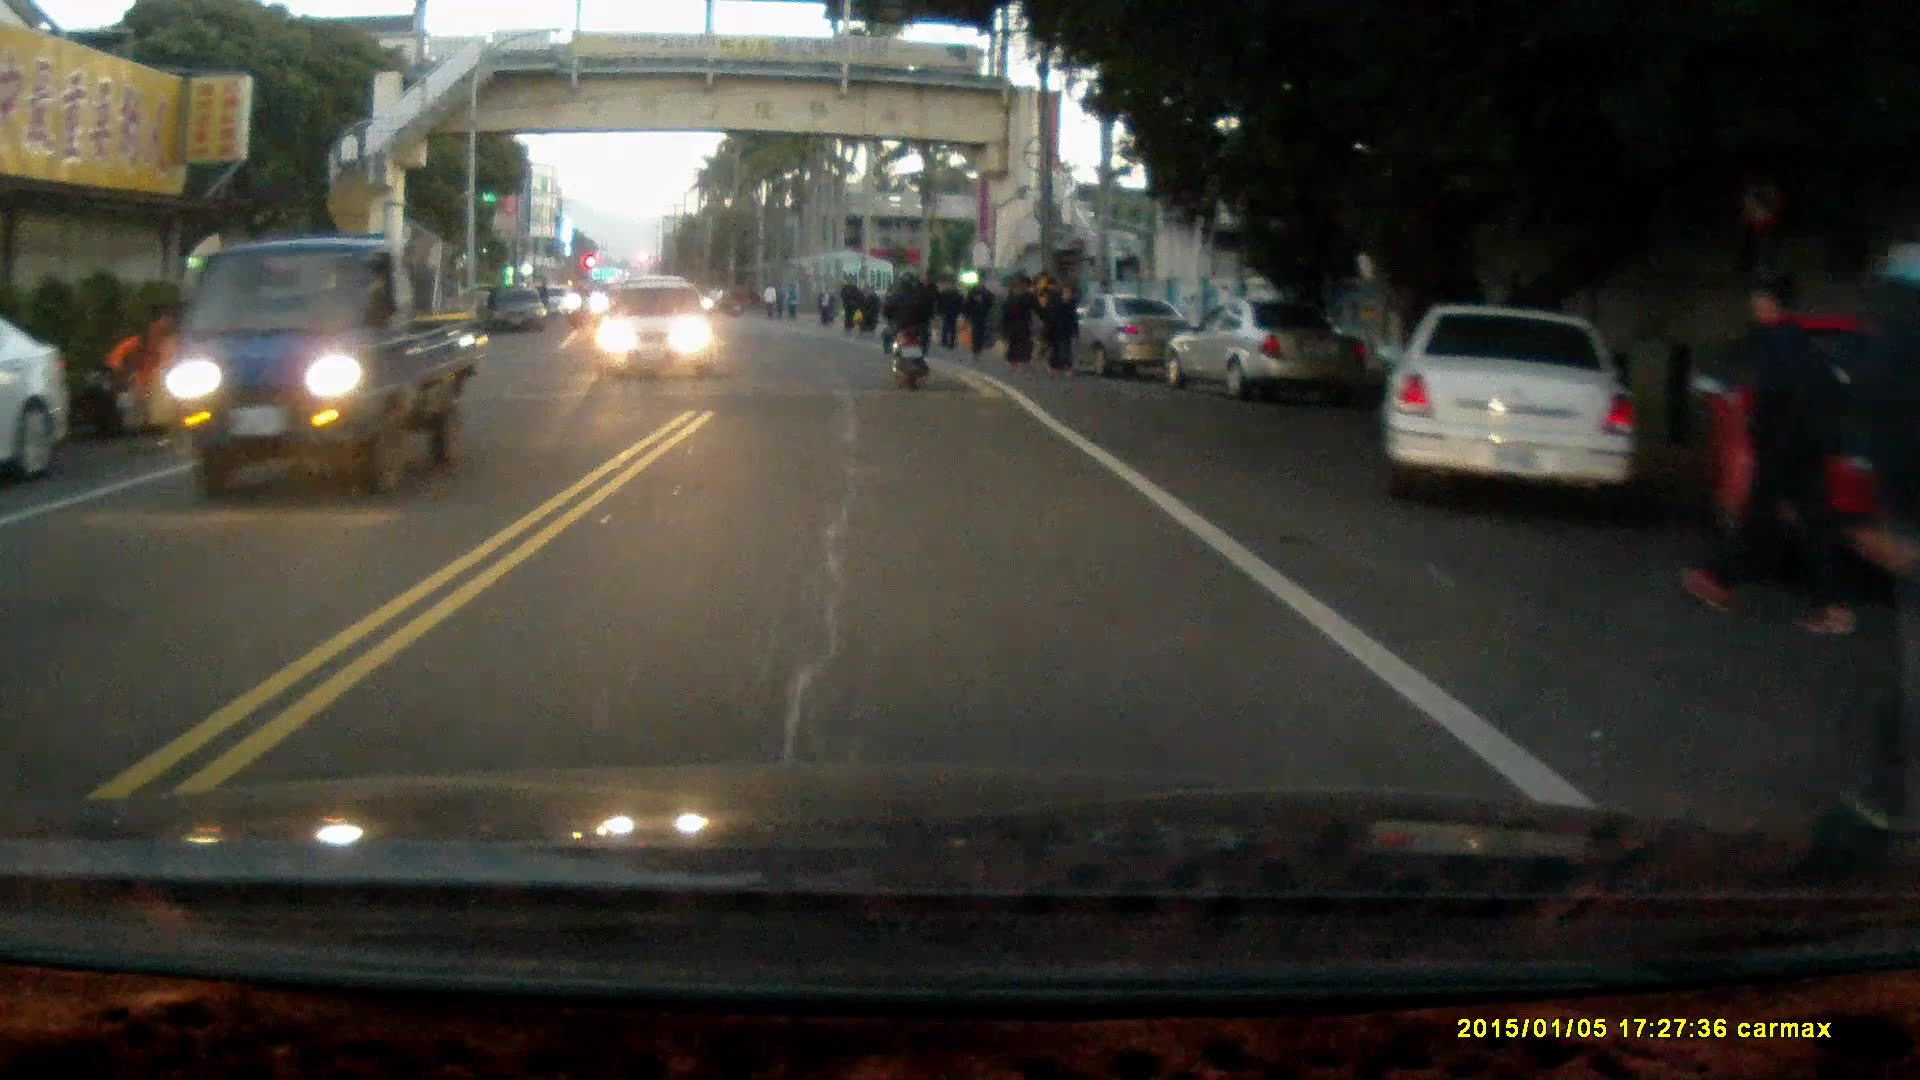pedestrian: (1673, 266, 1858, 643), (1847, 215, 1920, 827), (1010, 266, 1044, 365), (998, 273, 1030, 371), (963, 269, 992, 362), (1049, 283, 1079, 368), (935, 275, 965, 354)
rider: (875, 269, 933, 390)
vehicle: (161, 235, 485, 500), (1380, 298, 1658, 508), (1173, 297, 1368, 404), (596, 279, 717, 377), (1066, 291, 1193, 377), (10, 314, 73, 486)
